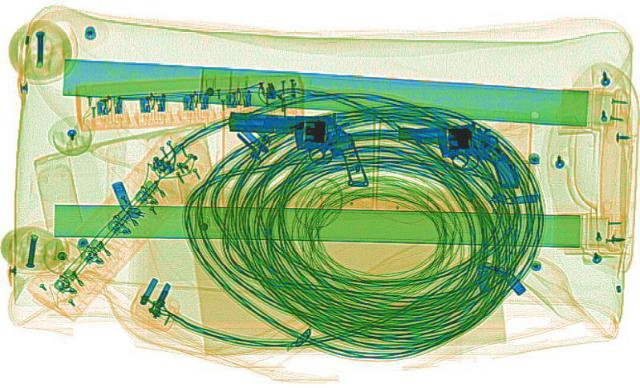Gun: (225, 111, 368, 185), (393, 120, 521, 193)
